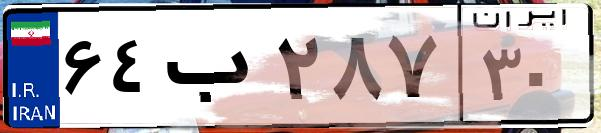0: (525, 38, 570, 115)
2: (270, 28, 330, 110)
3: (475, 38, 525, 113)
4: (110, 28, 158, 98)
6: (57, 26, 110, 100)
7: (385, 28, 445, 110)
8: (330, 28, 385, 110)
ب: (158, 20, 270, 120)
